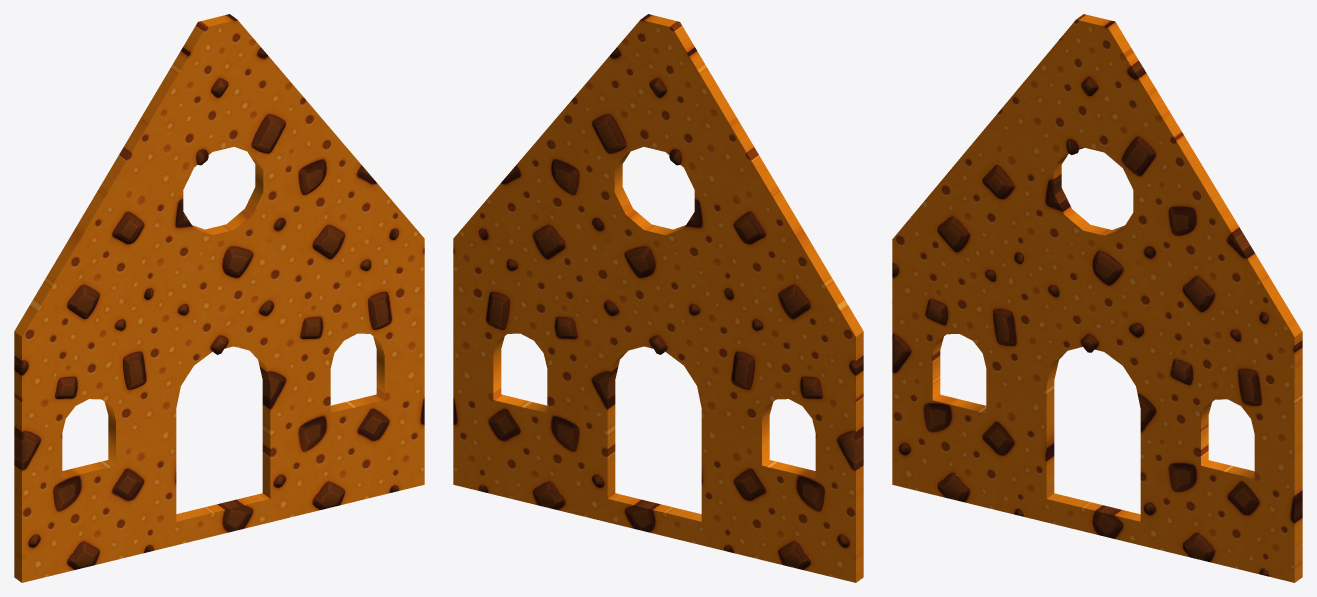
File: Wall_001.glb
The picture shows the model from 3 angles, left to right: view 1: azimuth 30°, elevation 25°; view 2: azimuth 150°, elevation 25°; view 3: azimuth 330°, elevation 25°; orthographic projection.
Parts seen in each view (by area): view 1: Wall_001; view 2: Wall_001; view 3: Wall_001.
Boxes of the visible parts, x1=… form: Wall_001: x1=14, y1=14, x2=424, y2=582; Wall_001: x1=453, y1=14, x2=863, y2=582; Wall_001: x1=892, y1=14, x2=1302, y2=582.
Size of the model in its own units: 6 by 7.27 by 0.3052.
Materials: 1 (1 with a texture image).
